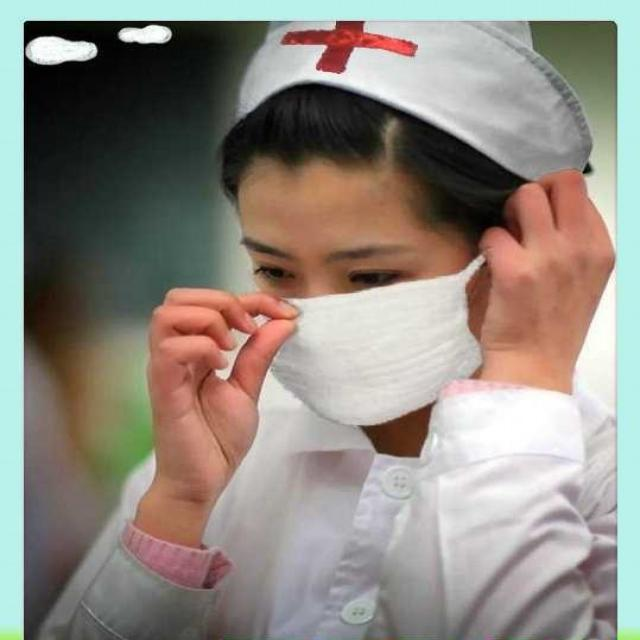mask: (236, 152, 484, 428)
